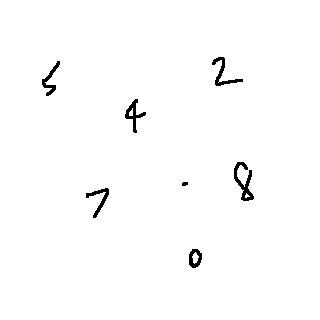.: (180, 179, 194, 195)
0: (185, 243, 211, 277)
2: (207, 49, 246, 87)
4: (125, 96, 147, 133)
5: (37, 56, 65, 108)
7: (78, 183, 116, 224)
8: (228, 154, 263, 217)
